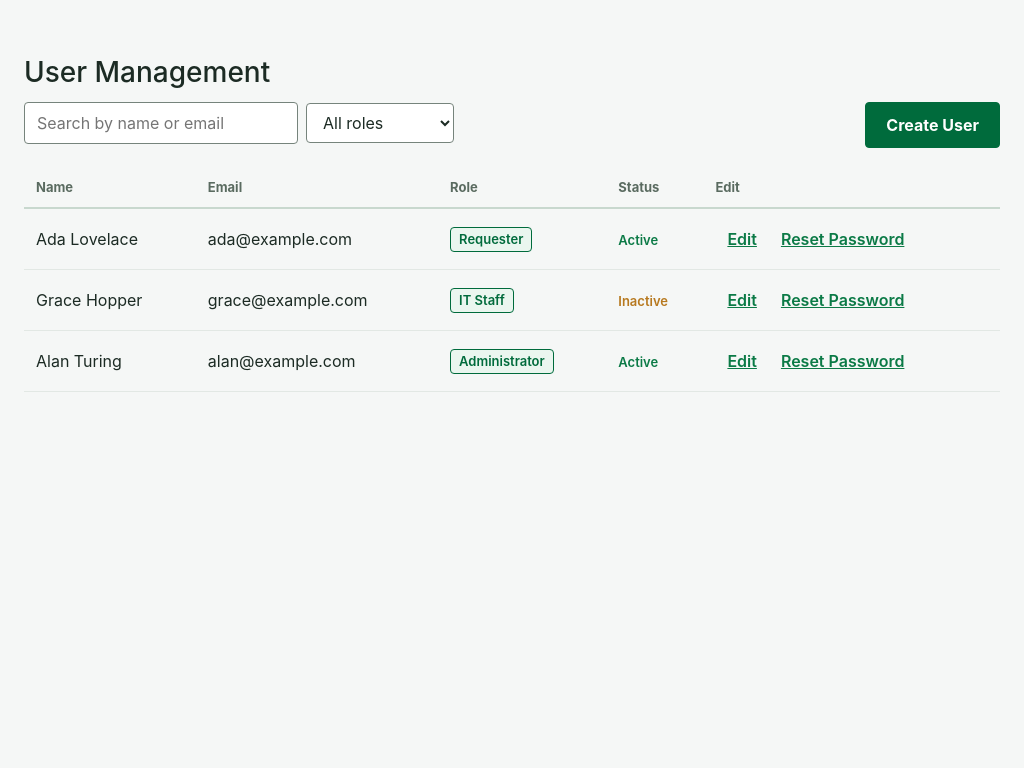
Test: UI-ADM-01: User Management › surfaces a duplicate-email 409 inline and preserves the entered form data (BR-33)
Expected: the text "Ada Lovelace" is shown, [24,208,196,270]
Click the button "Edit" in the row of "Ada Lovelace".
click(742, 239)  # box [715,219,769,259]
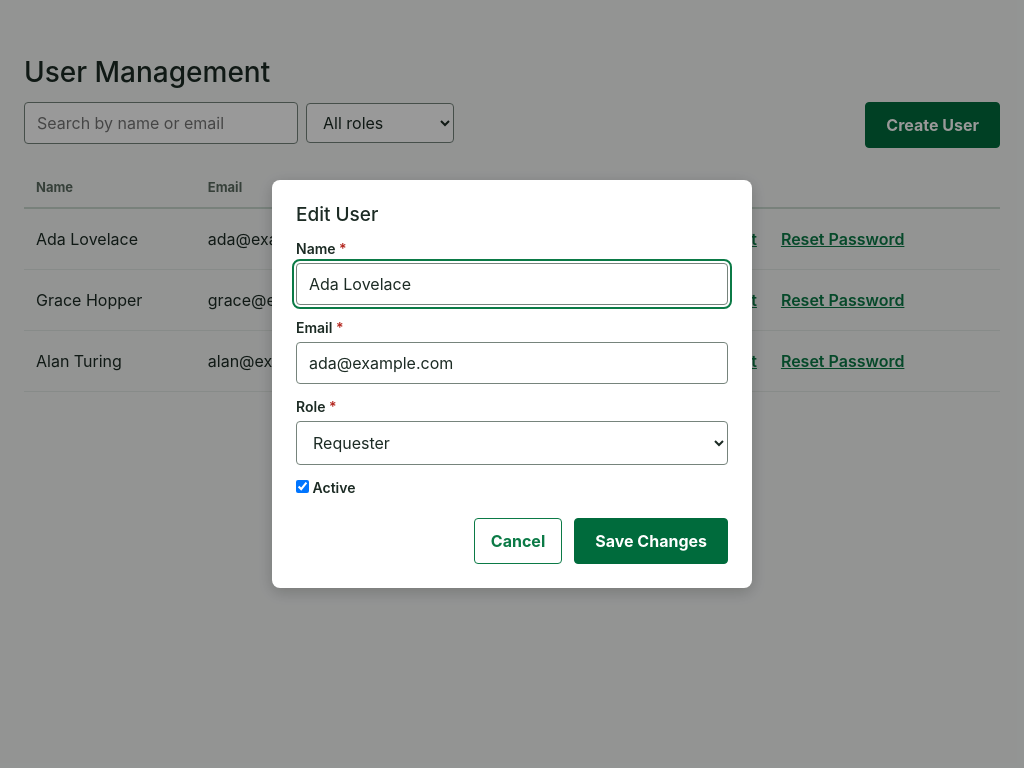
Replace the text in the field labelled "Email *" with "grace@example.com" at (512, 363), box [296,342,728,384]
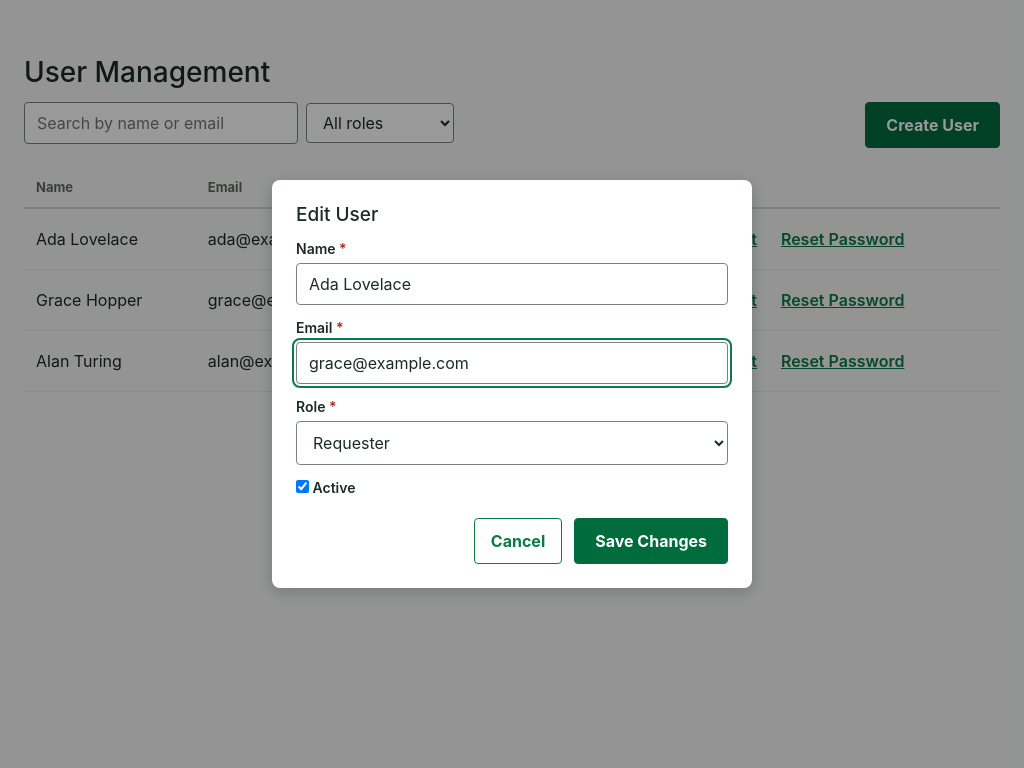
Click the button "Save Changes".
click(651, 541)  # box [574,518,728,564]
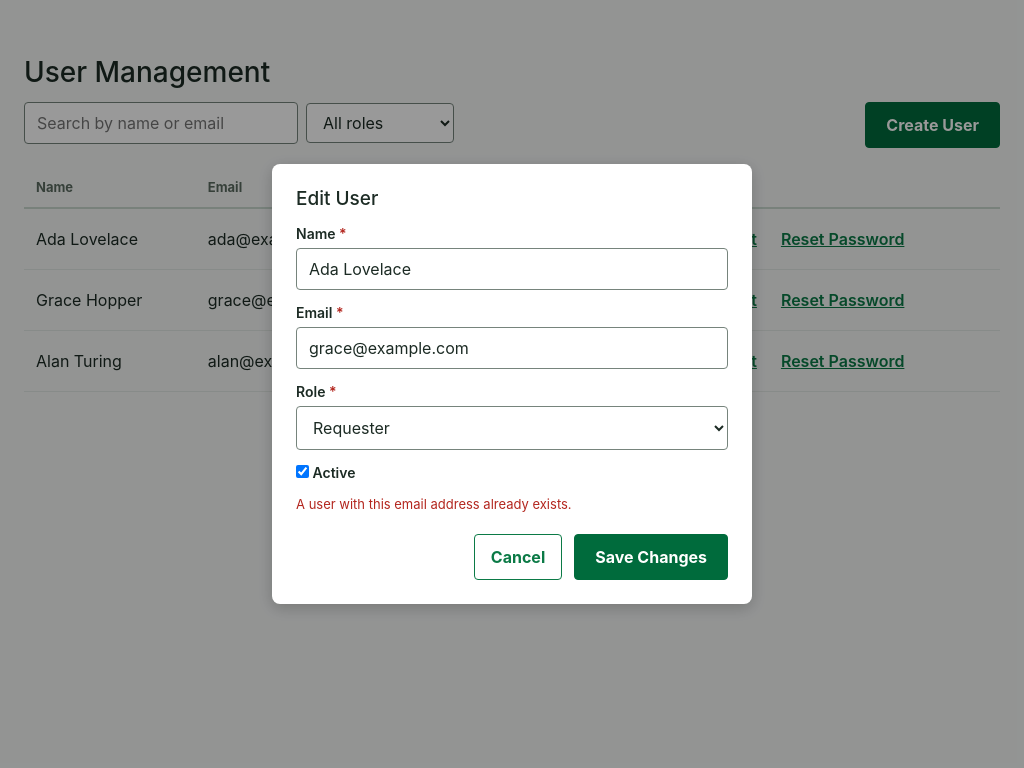
Expected: the field labelled "Name *" holds "Ada Lovelace", [296,248,728,290]
Expected: the text "A user with this email address already exists." is shown, [296,496,572,512]
